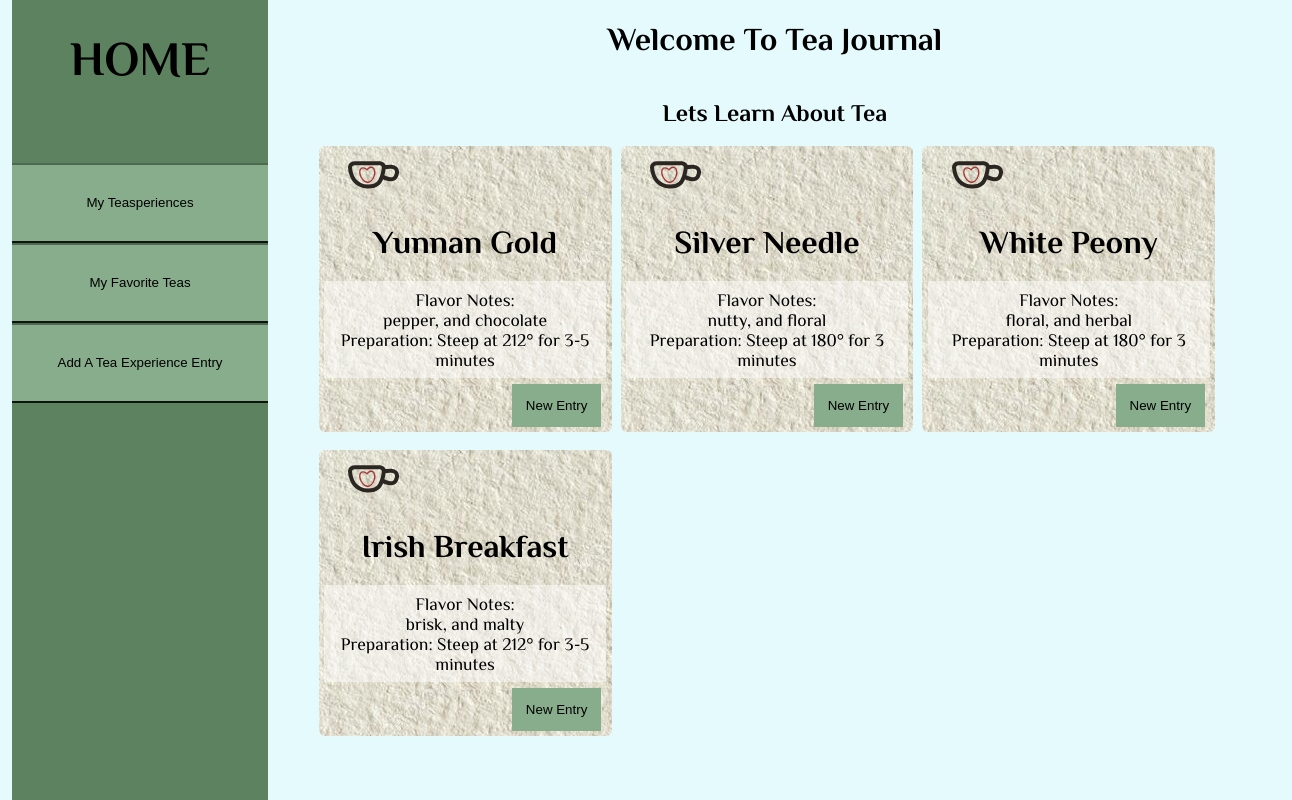
Test: empty spec › should be able to select a Tea and update the form to reflect that
Click the button with class "entry-button" below "herbal": [1161, 406] box [1116, 384, 1206, 427]
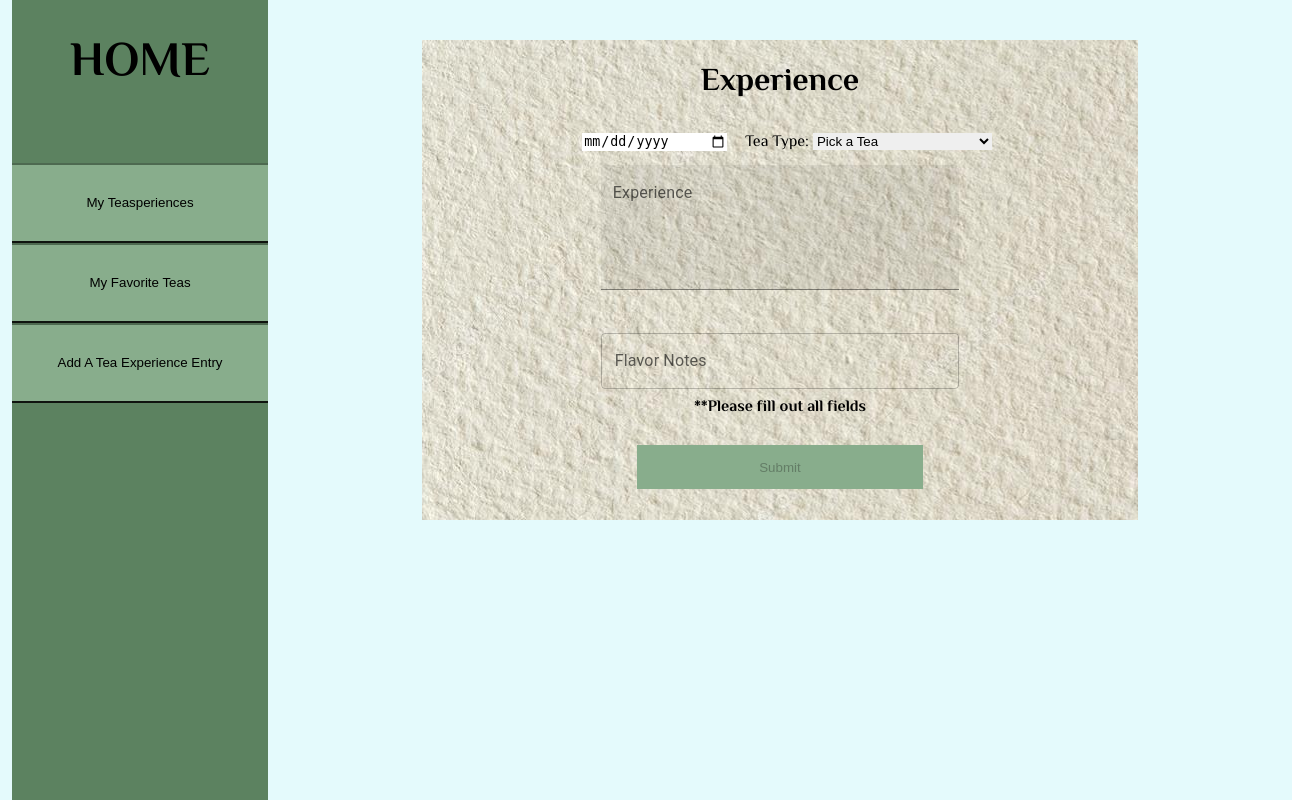
Select "White Peony" in the dropdown: [903, 142] box [813, 133, 992, 150]
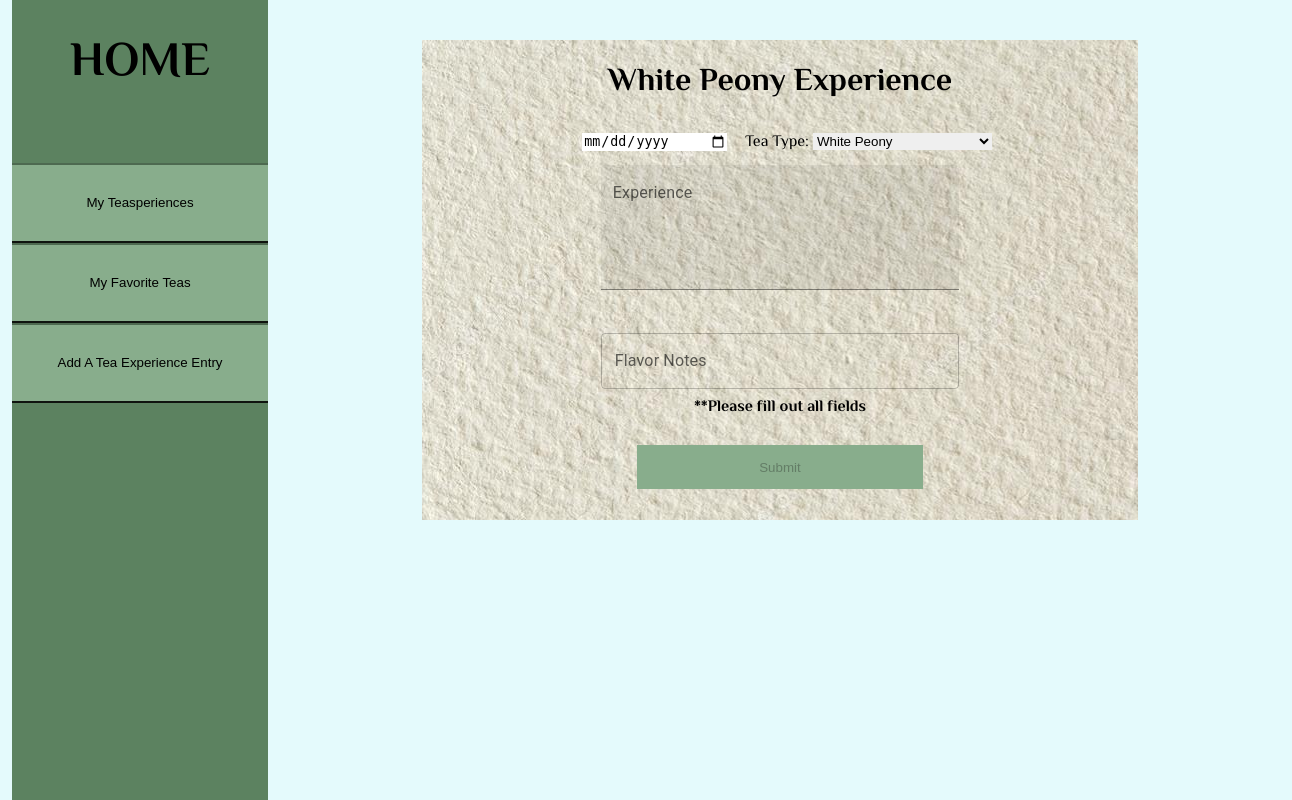
Check: the heading "White Peony Experience" is shown, box [608, 61, 952, 97]
